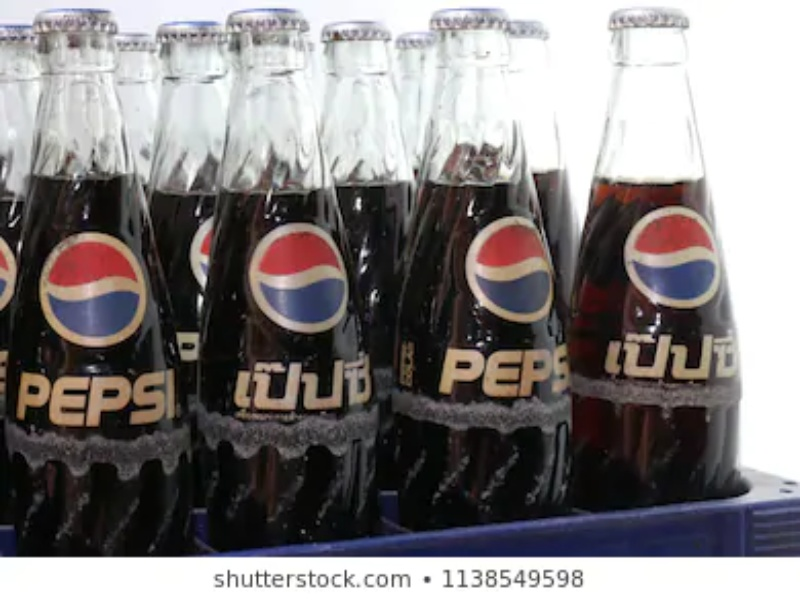Glass bottle: (540, 16, 762, 494), (387, 19, 591, 511), (12, 3, 195, 516), (189, 8, 379, 450), (297, 8, 432, 322), (137, 12, 244, 356)
